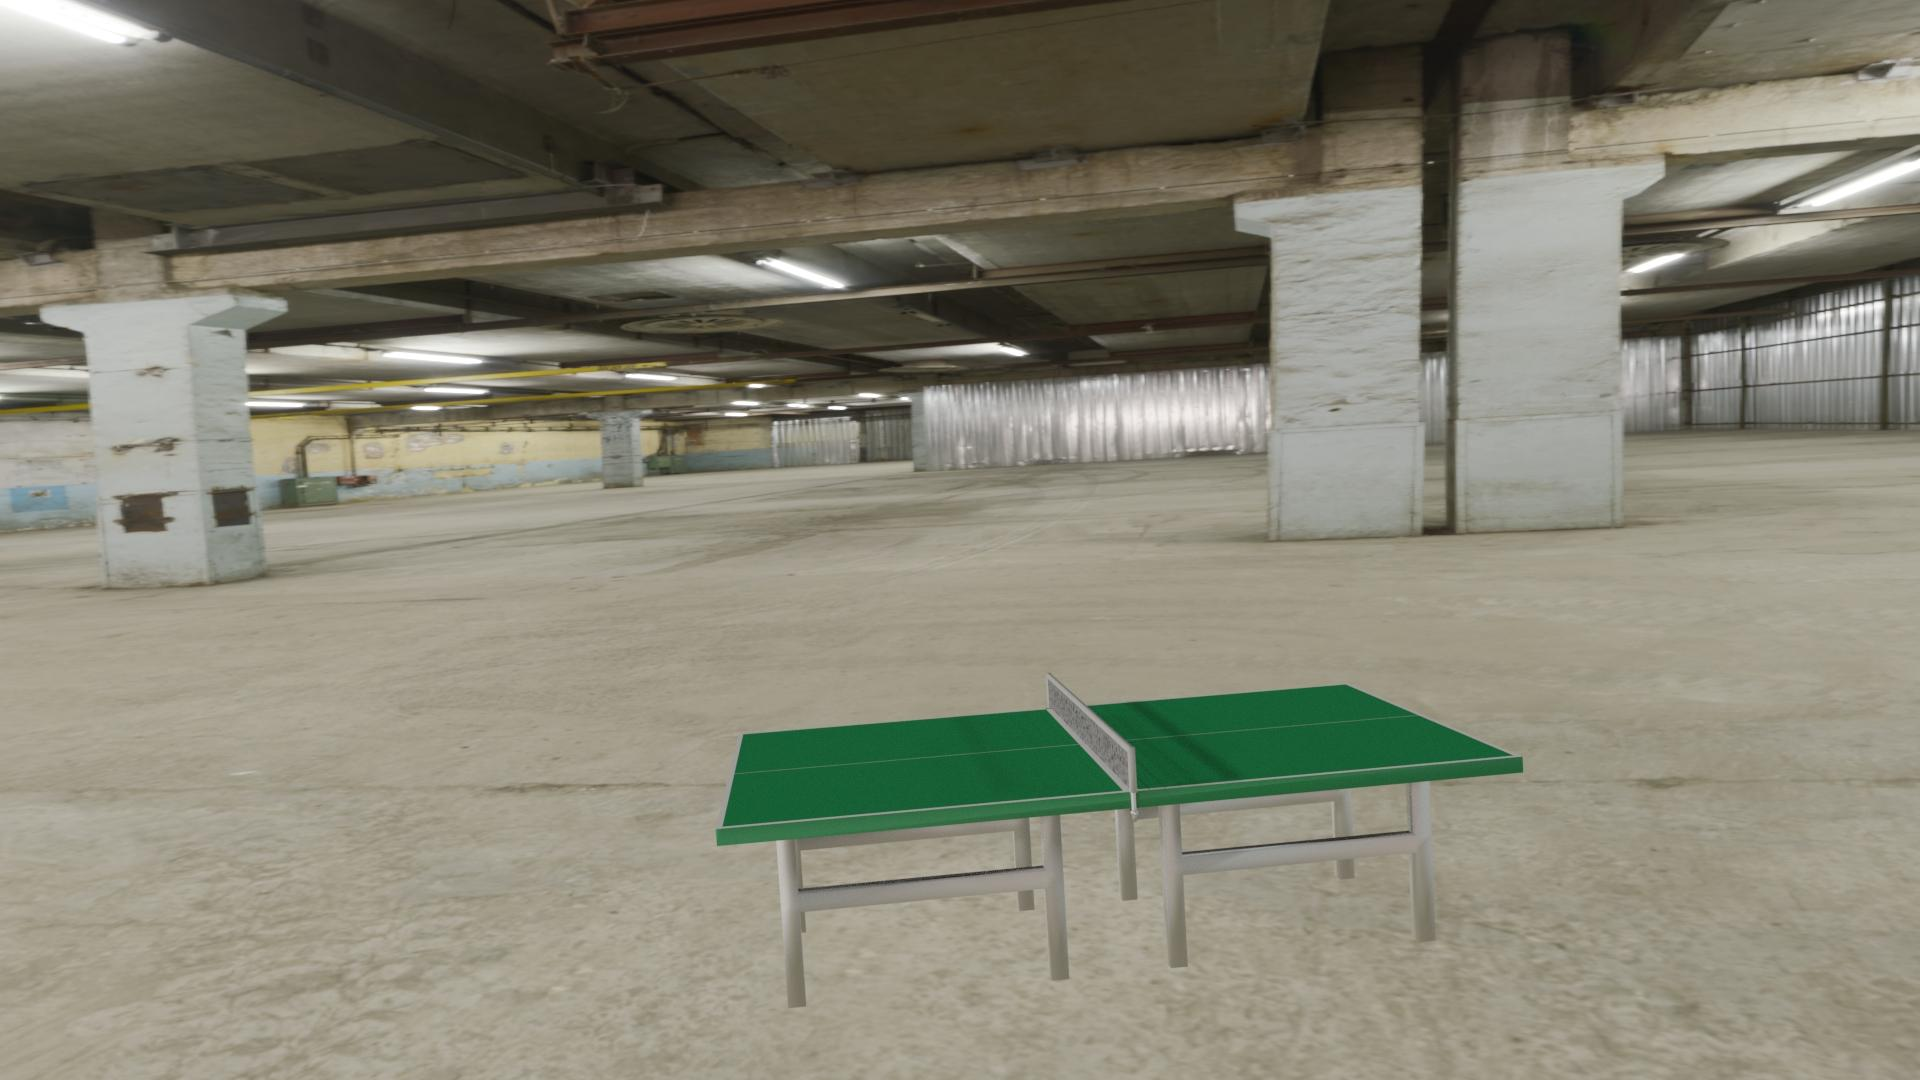table: (723, 684, 1514, 827)
